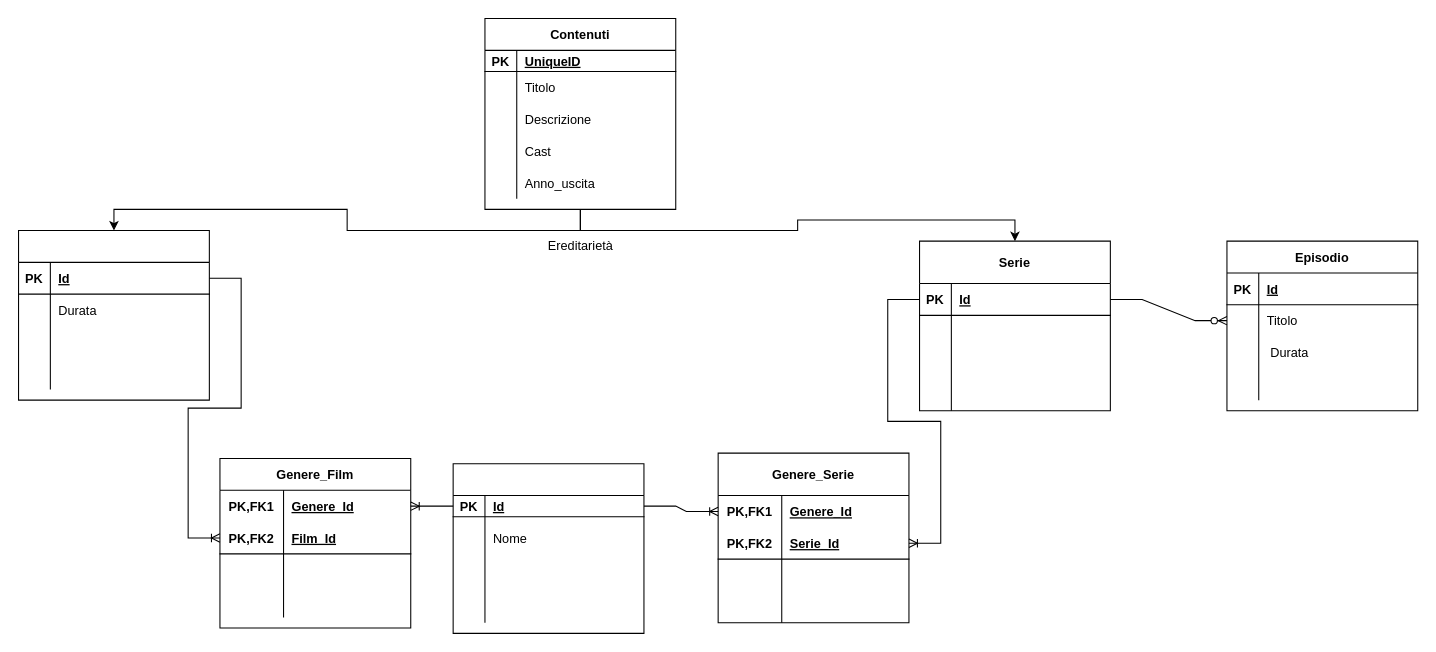
This 1436x652 diagram has some shape labels left out. The box of each missing label's shape, as (x1, y1, x2, y2) in pixels:
Film: (17, 229, 209, 400)
Genere: (452, 463, 644, 633)
